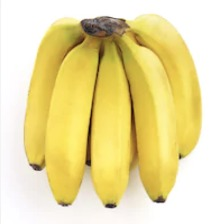banana: (41, 29, 192, 203)
